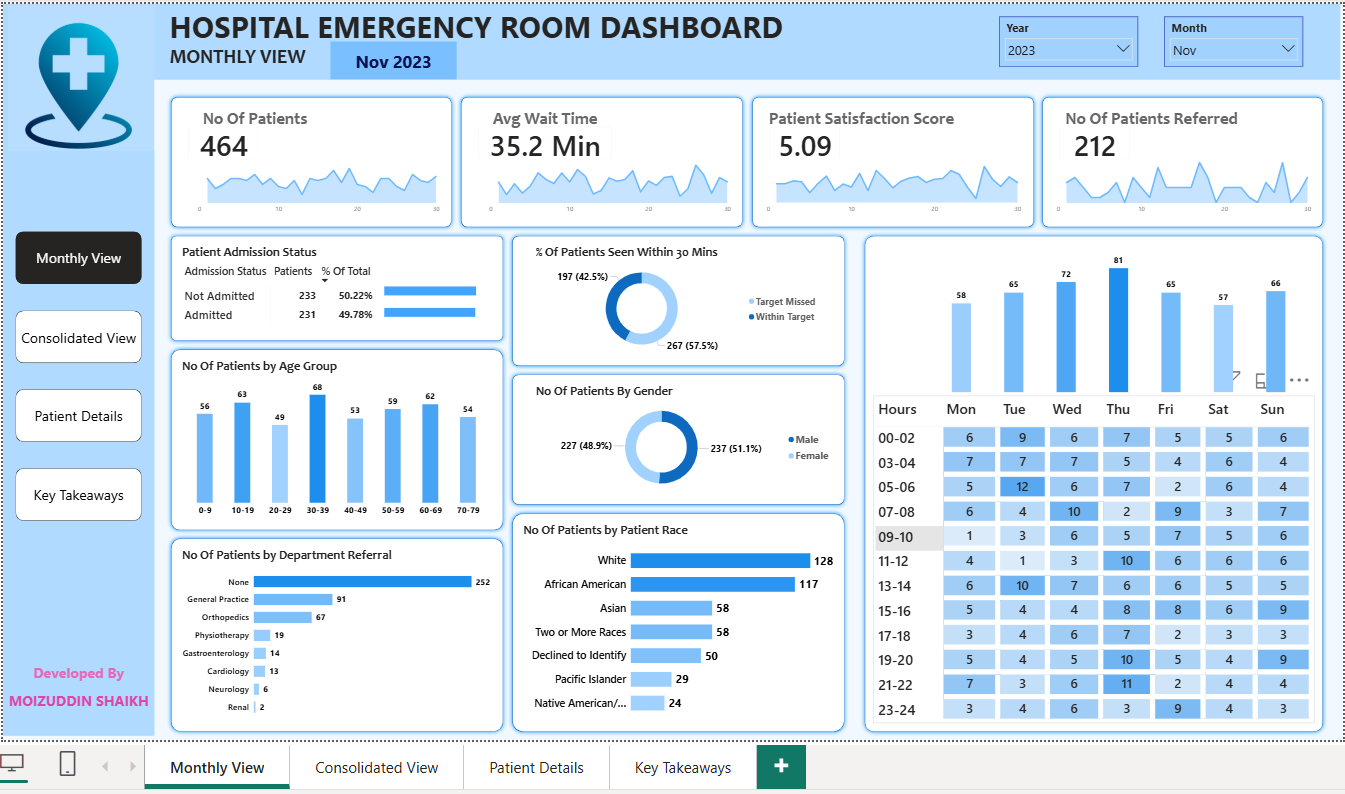

The page's visual inventory and layout, read from the dashboard file:
{"tool":"powerbi","page":{"name":"Monthly View","canvas":[2550,1400],"ordinal":0},"visuals":[{"type":"textbox","box":[10,0,280,280],"z":0},{"type":"shape","box":[0,0,288,1392],"z":1000},{"type":"shape","box":[288,0,2256,144],"z":2000},{"type":"textbox","box":[312,0,1248,96],"z":3000},{"type":"textbox","box":[312,72,312,72],"z":4000},{"type":"slicer","fields":{"Values":["Date Table.Year"]},"box":[1896,24,264,96],"z":5000},{"type":"slicer","fields":{"Values":["Date Table.Month"]},"box":[2208,24,264,96],"z":6000},{"type":"shape","box":[312,168,550,264],"z":7000},{"type":"cardVisual","fields":{"Data":["Hospital ER_Data.No Of Patients"]},"box":[336,216,168,96],"z":8000},{"type":"textbox","box":[336,192,288,72],"z":9000},{"type":"areaChart","fields":{"Category":["Date Table.Date.Variation.Date Hierarchy.Day"],"Y":["Hospital ER_Data.No Of Patients"]},"box":[360,288,480,120],"z":10000},{"type":"cardVisual","fields":{"Data":["Min(Date Table.Month & Year)"]},"box":[624,72,240,72],"z":11000},{"type":"shape","box":[864,168,552,264],"z":12000},{"type":"cardVisual","fields":{"Data":["Hospital ER_Data.Avg Wait Time"]},"box":[888,216,288,96],"z":13000},{"type":"textbox","box":[888,192,288,72],"z":14000},{"type":"areaChart","fields":{"Category":["Date Table.Date.Variation.Date Hierarchy.Day"],"Y":["Avg(Hospital ER_Data.Patient Waittime)"]},"box":[912,288,480,120],"z":15000},{"type":"shape","box":[1416,168,552,264],"z":16000},{"type":"cardVisual","fields":{"Data":["Hospital ER_Data.Satisfaction Score"]},"box":[1440,216,168,96],"z":17000},{"type":"textbox","box":[1440,192,384,72],"z":18000},{"type":"areaChart","fields":{"Category":["Date Table.Date.Variation.Date Hierarchy.Day"],"Y":["Hospital ER_Data.Satisfaction Score"]},"box":[1440,288,504,120],"z":19000},{"type":"shape","box":[1968,168,550,264],"z":20000},{"type":"cardVisual","fields":{"Data":["Hospital ER_Data.No of Patient Referred"]},"box":[1992,216,168,96],"z":21000},{"type":"textbox","box":[1968,192,432,72],"z":22000},{"type":"areaChart","fields":{"Category":["Date Table.Date.Variation.Date Hierarchy.Day"],"Y":["Hospital ER_Data.No of Patient Referred"]},"box":[1992,288,504,120],"z":23000},{"type":"shape","box":[312,432,648,216],"z":24000},{"type":"pivotTable","title":"Patient Admission Status","fields":{"Rows":["Hospital ER_Data.Admission Status"],"Values":["Hospital ER_Data.No Of Patients1","Hospital ER_Data.No Of Patients"]},"box":[336,456,576,168],"z":25000},{"type":"barChart","fields":{"Y":["Hospital ER_Data.No Of Patients"],"Category":["Hospital ER_Data.Admission Status"]},"box":[720,504,216,120],"z":26000},{"type":"shape","box":[312,648,648,360],"z":27000},{"type":"clusteredColumnChart","fields":{"Category":["Hospital ER_Data.Age Group"],"Y":["Hospital ER_Data.No Of Patients"]},"box":[336,672,600,312],"z":28000},{"type":"shape","box":[312,1008,648,384],"z":29000},{"type":"clusteredBarChart","fields":{"Category":["Hospital ER_Data.Department Referral"],"Y":["Hospital ER_Data.No Of Patients"]},"box":[336,1032,600,336],"z":30000},{"type":"shape","box":[960,432,648,264],"z":31000},{"type":"donutChart","title":"% Of Patients Seen Within 30 Mins","fields":{"Category":["Hospital ER_Data.Waittime Status"],"Y":["Hospital ER_Data.No Of Patients"]},"box":[1008,456,552,216],"z":32000},{"type":"shape","box":[960,696,648,264],"z":33000},{"type":"donutChart","title":"No Of Patients By Gender","fields":{"Y":["Hospital ER_Data.No Of Patients"],"Category":["Hospital ER_Data.Patient Gender"]},"box":[1008,720,576,216],"z":34000},{"type":"shape","box":[960,960,648,432],"z":35000},{"type":"clusteredBarChart","fields":{"Y":["Hospital ER_Data.No Of Patients"],"Category":["Hospital ER_Data.Patient Race"]},"box":[984,984,600,384],"z":36000},{"type":"shape","box":[1632,432,888,960],"z":37000},{"type":"pivotTable","fields":{"Rows":["Hospital ER_Data.Waittime Interval"],"Columns":["Date Table.Day Name"],"Values":["Hospital ER_Data.No Of Patients"]},"box":[1656,744,840,624],"z":38000},{"type":"columnChart","title":"No Of Patients by Day And Hour","fields":{"Category":["Date Table.Day Name"],"Y":["Hospital ER_Data.No Of Patients"]},"box":[1800,456,648,288],"z":39000},{"type":"image","box":[24,24,240,264],"z":40000},{"type":"pageNavigator","box":[24,432,240,552],"z":41000},{"type":"textbox","box":[0,1248,288,120],"z":42000}]}

Visuals, with their boxes on the page's 2550x1400 design canvas (x1, y1, x2, y2). These are canvas units, not pixel positions in the 1345x794 screenshot, which may show the page scaled, cropped or inside an application window:
textbox: 10/0/290/280
shape: 0/0/288/1392
shape: 288/0/2544/144
textbox: 312/0/1560/96
textbox: 312/72/624/144
slicer - Date Table.Year: 1896/24/2160/120
slicer - Date Table.Month: 2208/24/2472/120
shape: 312/168/862/432
cardVisual - Hospital ER_Data.No Of Patients: 336/216/504/312
textbox: 336/192/624/264
areaChart - Date Table.Date.Variation.Date Hierarchy.Day x Hospital ER_Data.No Of Patients: 360/288/840/408
cardVisual - Min(Date Table.Month & Year): 624/72/864/144
shape: 864/168/1416/432
cardVisual - Hospital ER_Data.Avg Wait Time: 888/216/1176/312
textbox: 888/192/1176/264
areaChart - Date Table.Date.Variation.Date Hierarchy.Day x Avg(Hospital ER_Data.Patient Waittime): 912/288/1392/408
shape: 1416/168/1968/432
cardVisual - Hospital ER_Data.Satisfaction Score: 1440/216/1608/312
textbox: 1440/192/1824/264
areaChart - Date Table.Date.Variation.Date Hierarchy.Day x Hospital ER_Data.Satisfaction Score: 1440/288/1944/408
shape: 1968/168/2518/432
cardVisual - Hospital ER_Data.No of Patient Referred: 1992/216/2160/312
textbox: 1968/192/2400/264
areaChart - Date Table.Date.Variation.Date Hierarchy.Day x Hospital ER_Data.No of Patient Referred: 1992/288/2496/408
shape: 312/432/960/648
"Patient Admission Status" pivotTable: 336/456/912/624
barChart - Hospital ER_Data.No Of Patients x Hospital ER_Data.Admission Status: 720/504/936/624
shape: 312/648/960/1008
clusteredColumnChart - Hospital ER_Data.Age Group x Hospital ER_Data.No Of Patients: 336/672/936/984
shape: 312/1008/960/1392
clusteredBarChart - Hospital ER_Data.Department Referral x Hospital ER_Data.No Of Patients: 336/1032/936/1368
shape: 960/432/1608/696
"% Of Patients Seen Within 30 Mins" donutChart: 1008/456/1560/672
shape: 960/696/1608/960
"No Of Patients By Gender" donutChart: 1008/720/1584/936
shape: 960/960/1608/1392
clusteredBarChart - Hospital ER_Data.No Of Patients x Hospital ER_Data.Patient Race: 984/984/1584/1368
shape: 1632/432/2520/1392
pivotTable - Hospital ER_Data.Waittime Interval x Date Table.Day Name: 1656/744/2496/1368
"No Of Patients by Day And Hour" columnChart: 1800/456/2448/744
image: 24/24/264/288
pageNavigator: 24/432/264/984
textbox: 0/1248/288/1368
